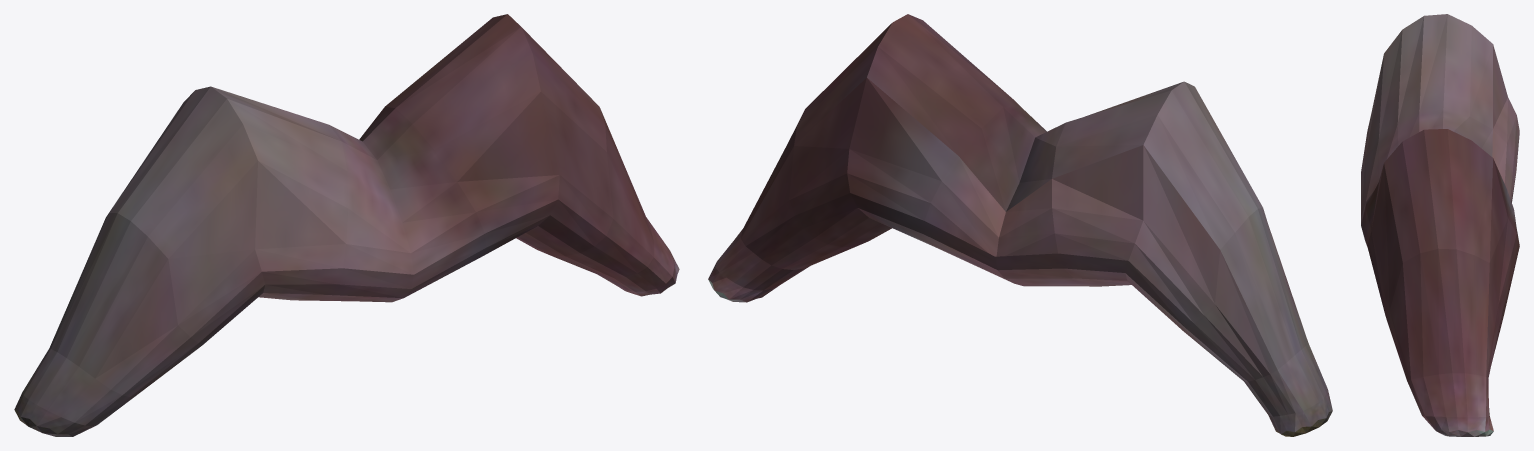
The model's file is lipUp.FBX.
3 renders of one model, left to right at view 1: azimuth 30°, elevation 25°; view 2: azimuth 150°, elevation 25°; view 3: azimuth 270°, elevation 25°, orthographic. The views are drawn at different scales.
Visible parts, largest first — view 1: pCylinder1; view 2: pCylinder1; view 3: pCylinder1.
Part boxes in pixels (<box>): pCylinder1: <box>14,14,679,436</box>; pCylinder1: <box>708,14,1332,436</box>; pCylinder1: <box>1361,14,1519,436</box>.
Size of the model in its own units: 6.74 by 3.14 by 1.79.
1 material, 1 textured.
